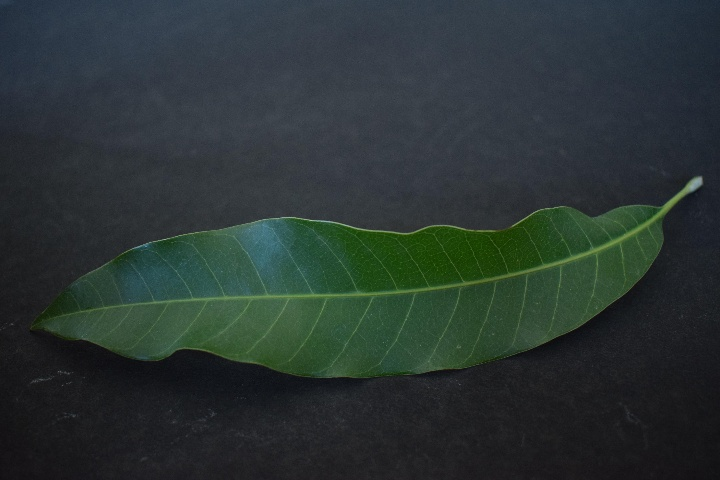healthy: (53, 196, 665, 382)
